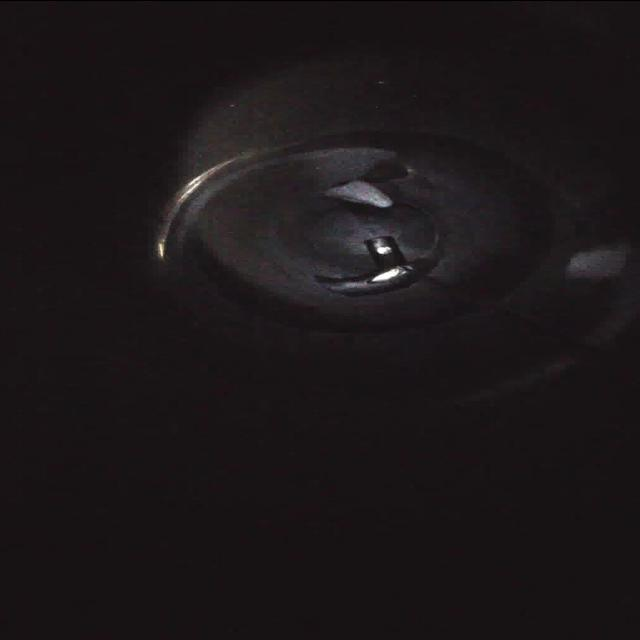impurity: (313, 176, 403, 210)
